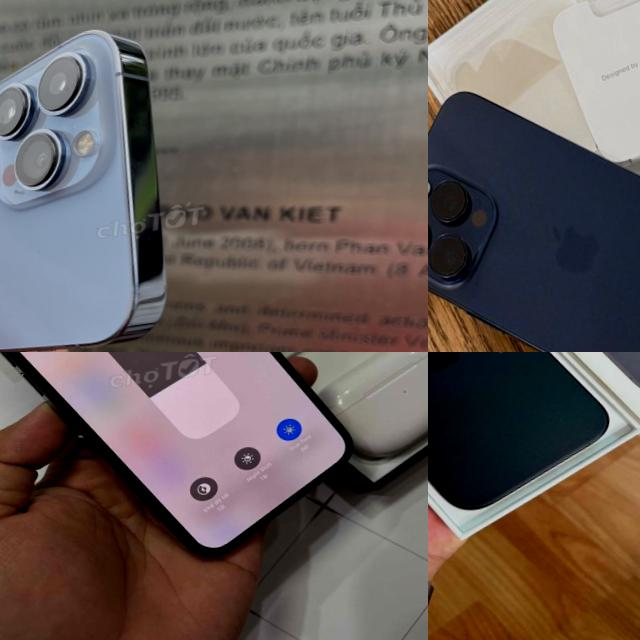gen_12_13: (0, 352, 368, 592), (0, 18, 191, 352)
gen_15: (428, 38, 640, 352)
gen_16: (428, 352, 608, 509)
